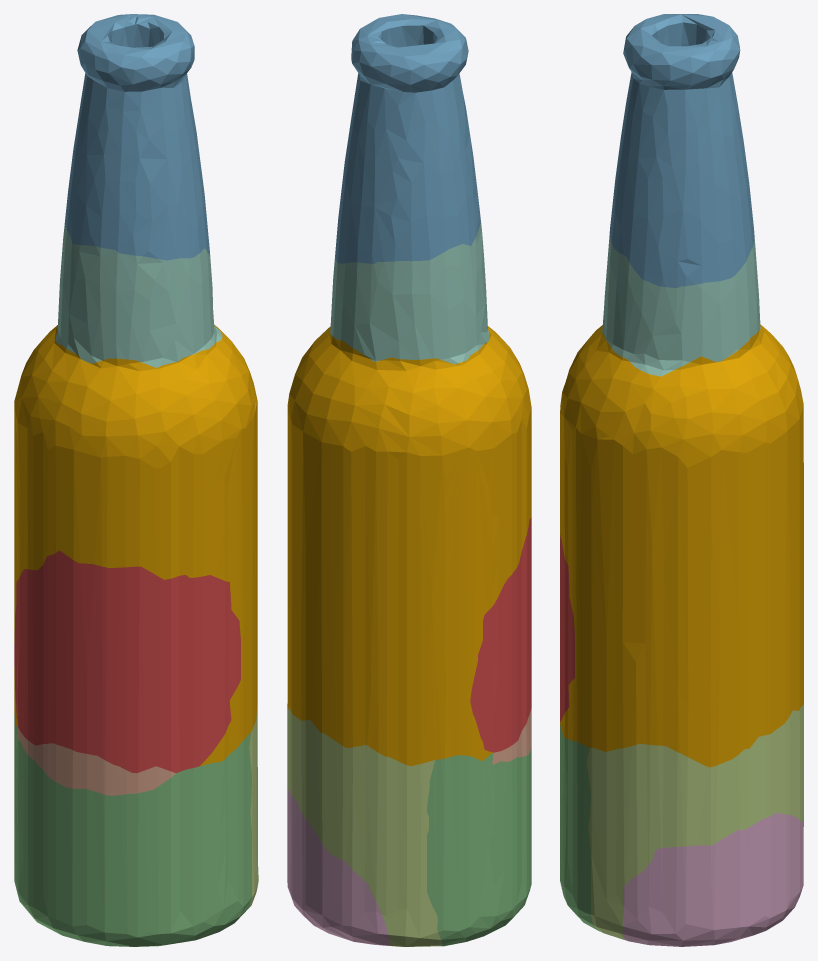
File: fractured_24_8pcs.glb
The picture shows the model from 3 angles, left to right: view 1: azimuth 30°, elevation 25°; view 2: azimuth 150°, elevation 25°; view 3: azimuth 270°, elevation 25°; orthographic projection.
Parts seen in each view (by area): view 1: piece_0.obj, piece_1.obj, piece_3.obj, piece_2.obj, piece_4.obj, piece_7.obj, piece_5.obj; view 2: piece_0.obj, piece_2.obj, piece_5.obj, piece_3.obj, piece_4.obj, piece_1.obj, piece_6.obj, piece_7.obj; view 3: piece_0.obj, piece_2.obj, piece_5.obj, piece_6.obj, piece_4.obj, piece_3.obj, piece_1.obj.
Boxes of the visible parts, left/top/right/bottom form: piece_0.obj: left=14, top=325, right=257, bottom=766; piece_1.obj: left=14, top=550, right=240, bottom=773; piece_3.obj: left=14, top=713, right=251, bottom=946; piece_2.obj: left=64, top=14, right=209, bottom=260; piece_4.obj: left=55, top=225, right=222, bottom=367; piece_7.obj: left=18, top=727, right=175, bottom=795; piece_5.obj: left=249, top=705, right=258, bottom=907; piece_0.obj: left=287, top=326, right=531, bottom=766; piece_2.obj: left=335, top=14, right=480, bottom=263; piece_5.obj: left=287, top=707, right=441, bottom=946; piece_3.obj: left=427, top=747, right=531, bottom=946; piece_4.obj: left=330, top=223, right=489, bottom=364; piece_1.obj: left=470, top=518, right=531, bottom=752; piece_6.obj: left=287, top=784, right=389, bottom=945; piece_7.obj: left=492, top=708, right=531, bottom=764; piece_0.obj: left=560, top=324, right=803, bottom=767; piece_2.obj: left=609, top=14, right=754, bottom=287; piece_5.obj: left=587, top=704, right=803, bottom=939; piece_6.obj: left=622, top=812, right=803, bottom=946; piece_4.obj: left=602, top=235, right=760, bottom=376; piece_3.obj: left=560, top=725, right=599, bottom=931; piece_1.obj: left=560, top=535, right=574, bottom=721.
Bounding box in the file's own units: 0.2541 × 1 × 0.2539.
